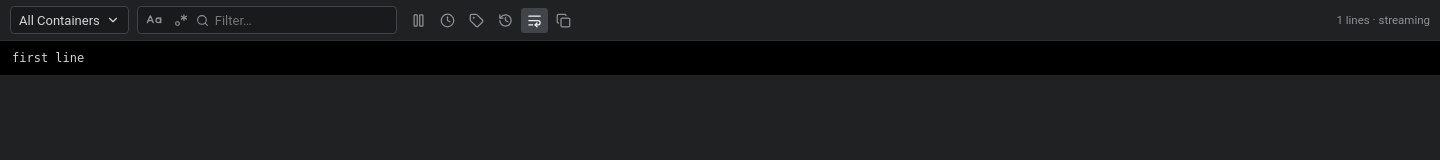
Scenario: copying live logs › copies the displayed snapshot and reports clipboard failures
Expected: the text named "Logs" reads "first line", [12,51,84,65]
Click the button titled "Pause live logs" at (418, 20), box [405,8,432,32]
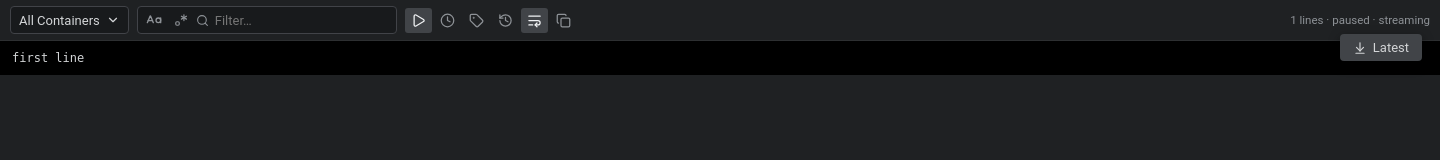
Click the button titled "Copy shown lines" at (563, 20), box [550,8,577,32]
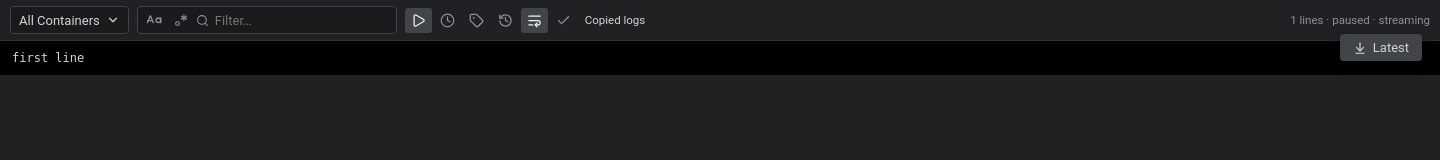
Result: the message reads "Copied logs" at [585,13,645,27]
Click the button titled "Copy shown lines" at (563, 20), box [550,8,577,32]
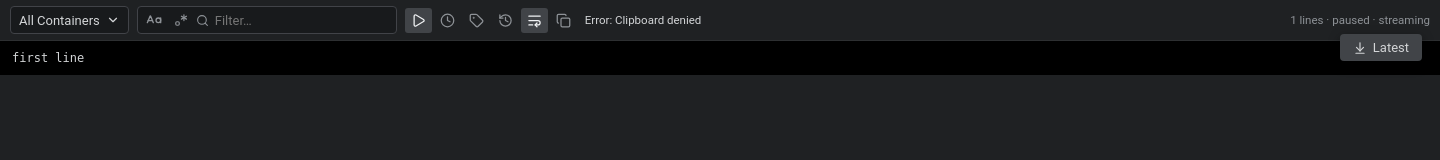
Result: the message shows "Clipboard denied" at [585,13,701,27]
